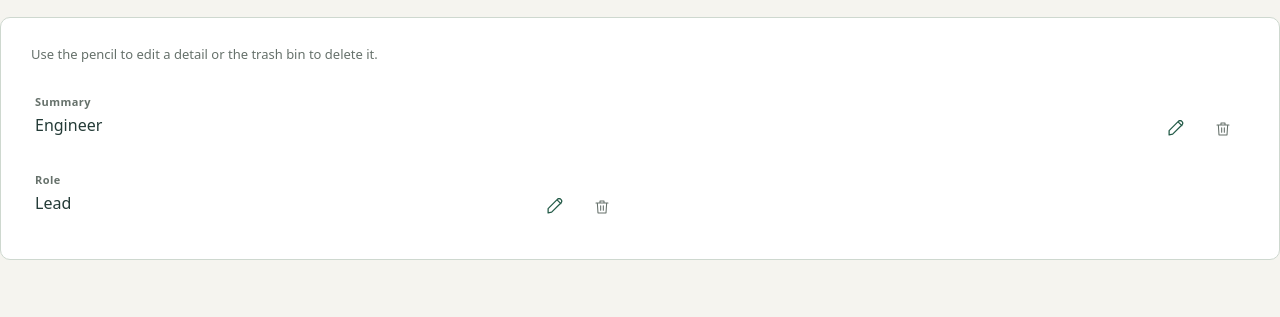
Scenario: deletes individual fields without altering siblings or the schema, with undo
Click the button named "Delete Summary".
click(1223, 129)  # box [1201, 107, 1245, 151]
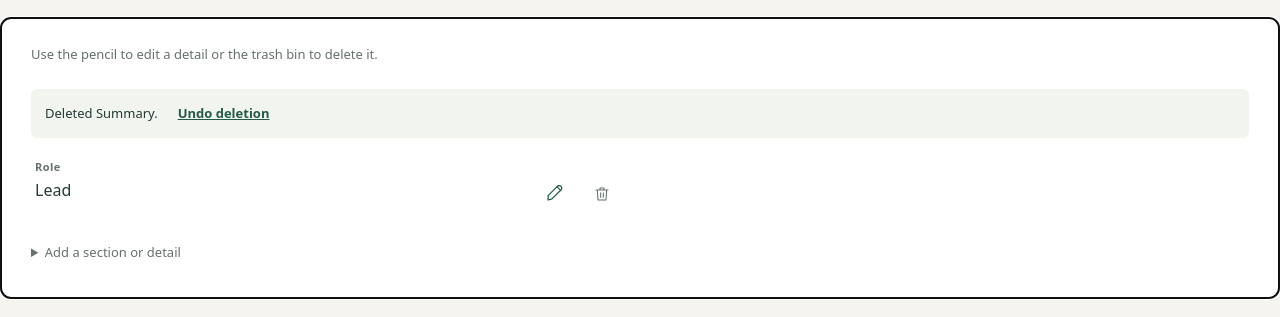
Expected: the text "Engineer" is gone
Expected: the message shows "Deleted Summary", [31, 89, 1249, 138]
Click the button "Undo deletion".
click(224, 113)  # box [170, 99, 278, 128]
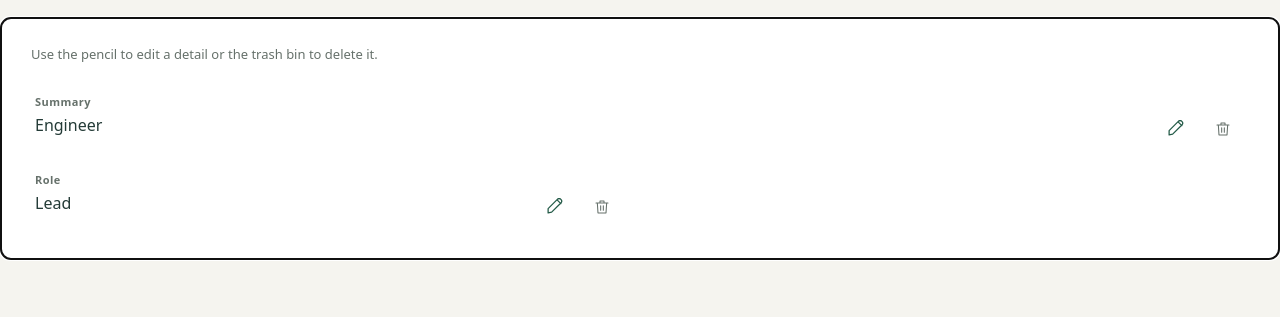
Expected: the text "Engineer" is shown, [35, 114, 102, 136]
